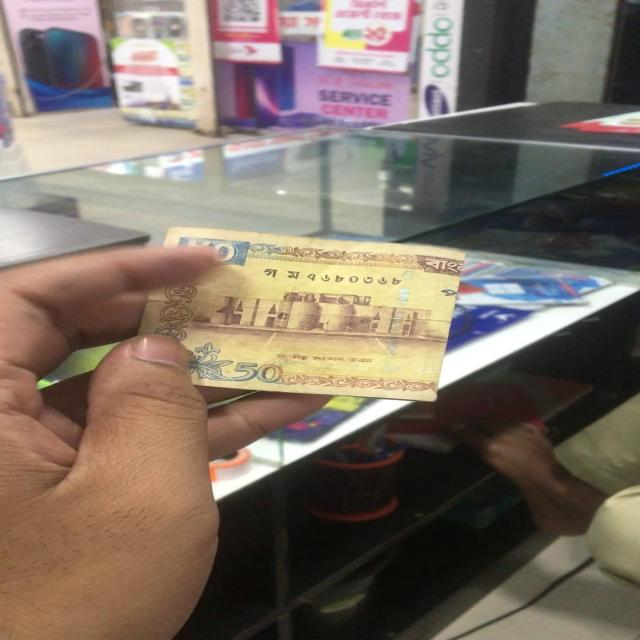Taka: (162, 231, 454, 395)
